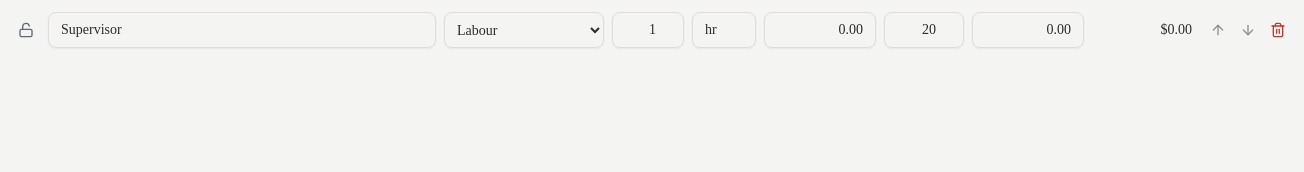
Test case: entering a cost on a line with no sell yet seeds the sell from the markup
In the field named "Unit cost": (820, 30) [764,12,876,48], type "100"
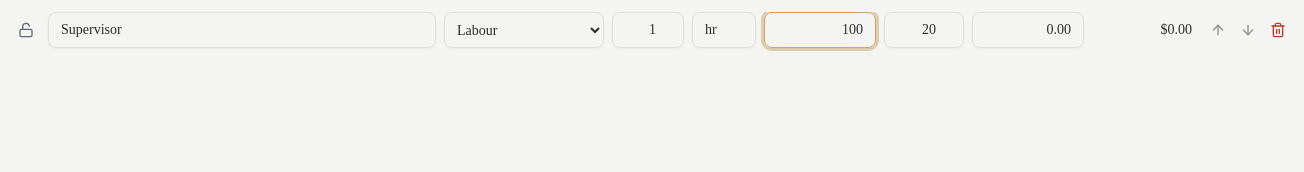
Press Tab
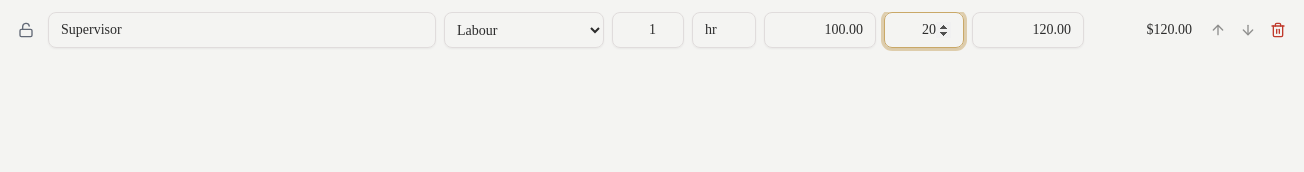
expect the number field named "Markup %" holds "20": met, box [884,12,964,48]
expect the field named "Unit sell" holds "120.00": met, box [972,12,1084,48]
